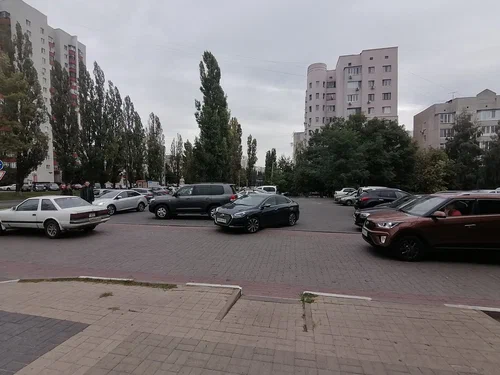Car: (362, 192, 500, 262), (0, 195, 110, 239), (213, 194, 300, 232), (148, 183, 238, 219), (353, 195, 431, 228), (92, 189, 148, 215), (355, 188, 412, 210), (355, 187, 388, 204), (376, 195, 415, 206), (130, 188, 154, 202), (334, 190, 357, 201), (339, 192, 357, 205), (334, 188, 356, 198), (150, 186, 170, 196), (238, 189, 264, 196), (93, 189, 113, 198), (256, 186, 278, 194), (33, 183, 46, 192), (0, 184, 16, 191), (473, 190, 500, 194), (48, 183, 59, 191), (169, 187, 179, 195), (20, 184, 30, 192), (60, 183, 70, 189), (72, 184, 81, 190)
